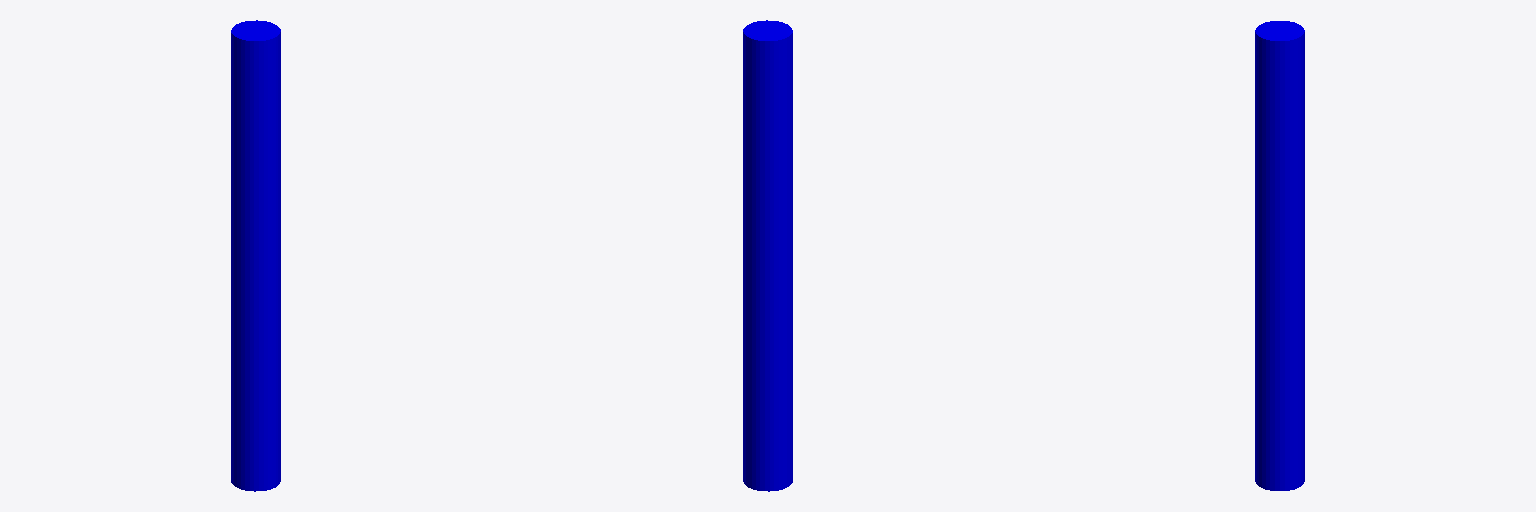
The robot description file, URDF, robot "link":
<?xml version="1.0" ?>
<robot name="link">
  <link name="link">
    <visual>
      <geometry>
        <cylinder radius="0.05" length="1.0" />
      </geometry>
      <material name="material">
        <color rgba="0 0 1 1" /> <!-- Blue color -->
      </material>
    </visual>
    <collision>
      <geometry>
        <cylinder radius="0.05" length="1.0" />
      </geometry>
    </collision>
    <inertial>
      <mass value="1.0" />
      <inertia ixx="0.01" ixy="0.0" ixz="0.0" iyy="0.01" iyz="0.0" izz="0.01" />
    </inertial>
  </link>
</robot>

--- Render facts (derived) ---
Views: 3 orthographic renders of the robot side by side, from view 1: azimuth 30°, elevation 25°; view 2: azimuth 150°, elevation 25°; view 3: azimuth 270°, elevation 25°.
Model link with 1 links and 0 joints (none), rooted at link, posed every joint at zero.
Links seen in each view (by area): view 1: link; view 2: link; view 3: link.
Boxes of the visible links, bbox=[...] form: link: bbox=[231, 20, 280, 491]; link: bbox=[743, 20, 792, 491]; link: bbox=[1255, 21, 1304, 490].
Size in the robot's own frame: 0.1 by 0.1 by 1 metres.
Geometry: primitives only (box / cylinder / sphere), no mesh files.
